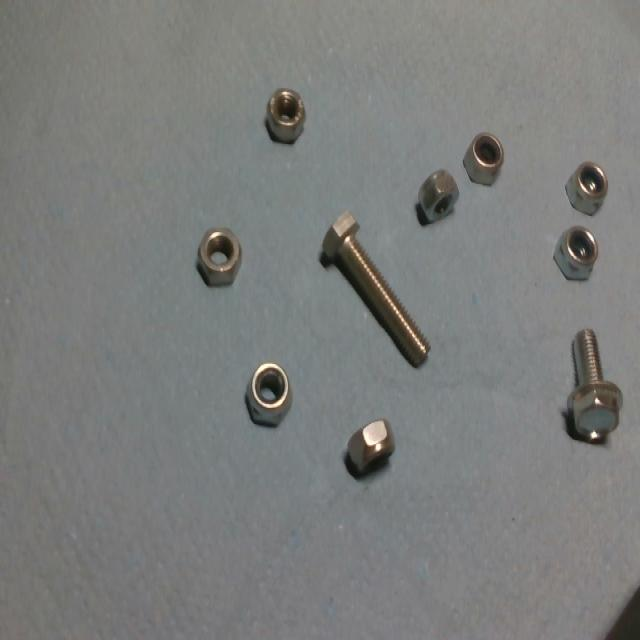Bolt: (319, 213, 430, 368), (566, 329, 623, 444)
Nut: (193, 223, 244, 288), (244, 364, 291, 429), (346, 420, 392, 481), (263, 85, 306, 144), (416, 169, 460, 225), (554, 225, 598, 281), (462, 132, 506, 185), (565, 161, 607, 216)
